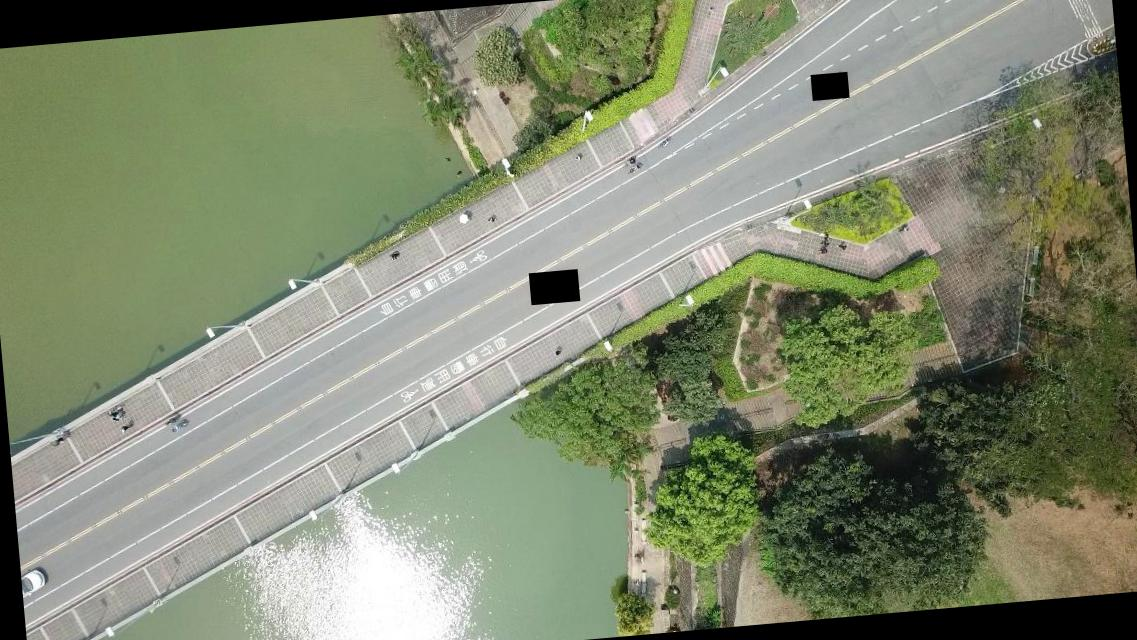vehicle: (20, 568, 46, 596)
